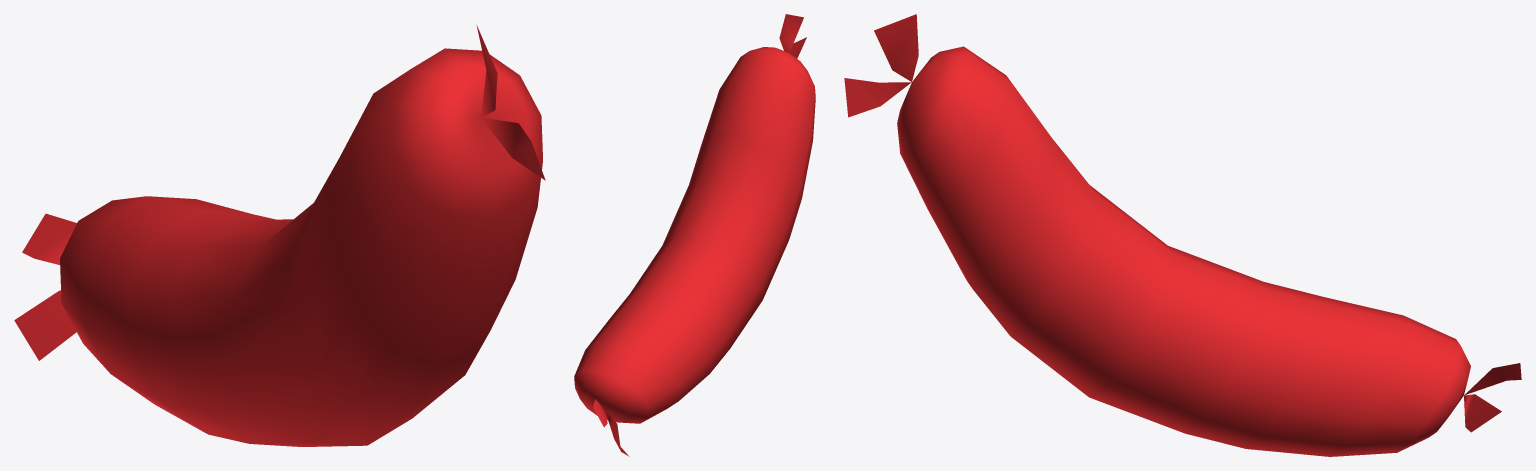
Rendered from peperoni.fbx.
The picture shows the model from 3 angles, left to right: view 1: azimuth 30°, elevation 25°; view 2: azimuth 150°, elevation 25°; view 3: azimuth 270°, elevation 25°; orthographic projection. The views are drawn at different scales.
Parts seen in each view (by area): view 1: Cylinder.026; view 2: Cylinder.026; view 3: Cylinder.026.
Part boxes in pixels (x1,y1,x2,y2): Cylinder.026: [14, 25, 545, 446]; Cylinder.026: [574, 14, 815, 456]; Cylinder.026: [844, 14, 1521, 456].
Bounding box in the file's own units: 47.32 × 137 × 191.
